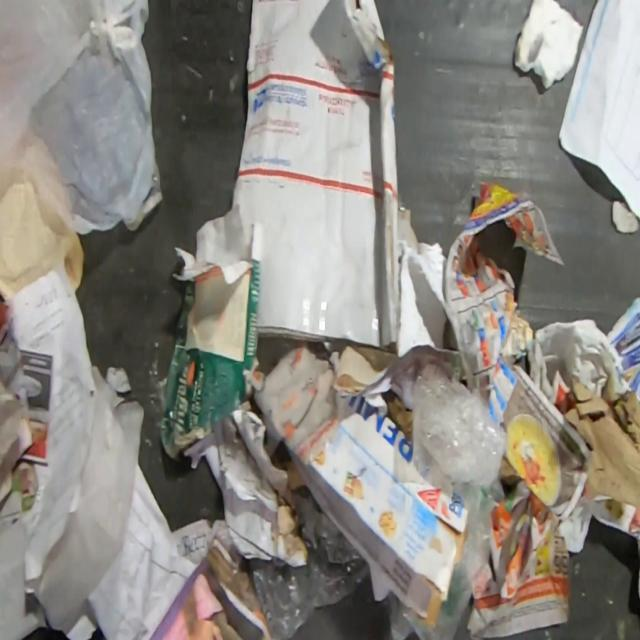cardboard: (231, 0, 401, 355), (270, 394, 470, 628), (155, 205, 265, 465), (562, 372, 639, 509)
soft_plastic: (0, 0, 164, 236), (239, 486, 368, 640), (426, 470, 506, 639), (401, 377, 507, 498)
